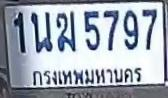1: (13, 11, 24, 52)
5: (83, 10, 100, 51)
7: (141, 8, 157, 50), (103, 10, 119, 51)
9: (123, 9, 138, 50)
A06: (55, 10, 76, 52)
A25: (30, 11, 52, 52)
BKK: (28, 67, 146, 86)
